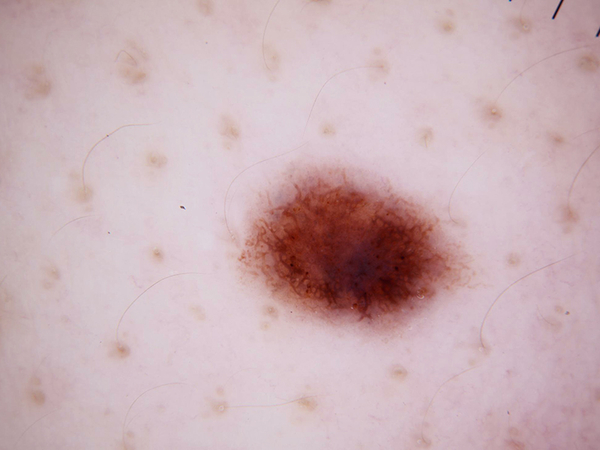Detected Lesion: (238, 166, 475, 331)
